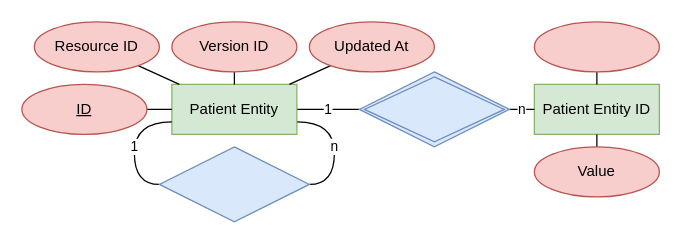
Image size: 681x244. Some labels were removed from this diagram. Here are the shapes that lost their labels. From the top down, the centre of each, then its label:
[596,46]: System
[433,109]: has
[233,184]: merged into
